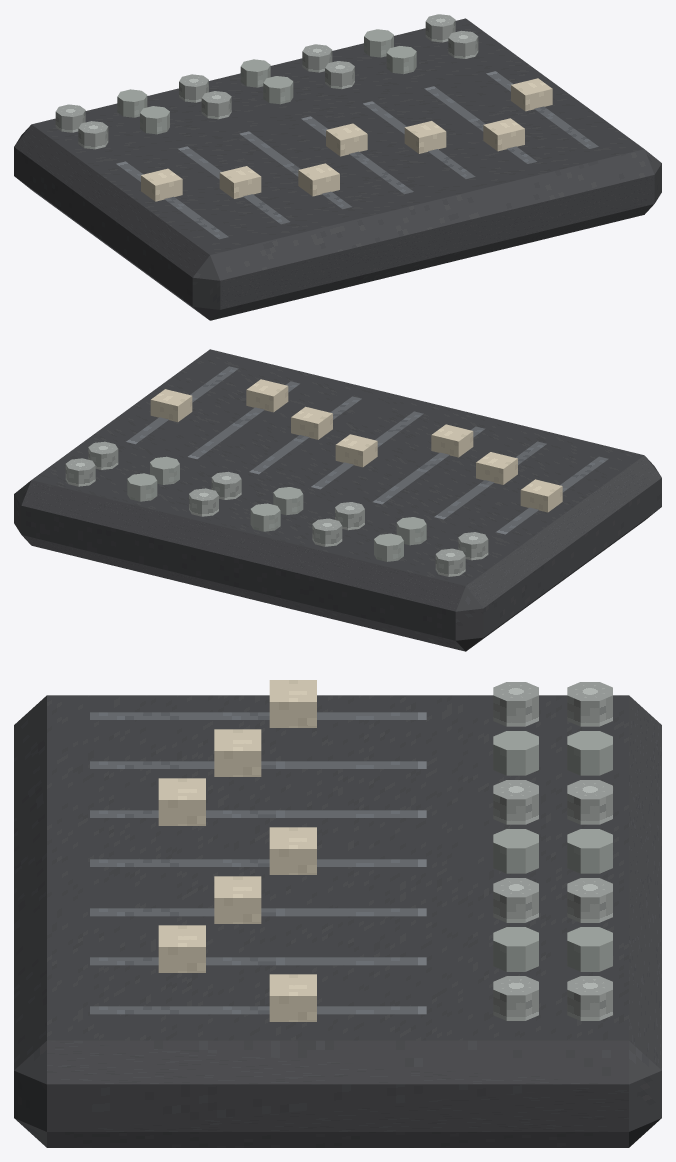
Rendered from mixer_music.glb.
3 renders of one model, top to bottom at view 1: azimuth 30°, elevation 25°; view 2: azimuth 150°, elevation 25°; view 3: azimuth 270°, elevation 25°, orthographic. The views are drawn at different scales.
Visible parts, largest first — view 1: block_mixing desk, block_channel trim knob (×14), block_slider cap (×7), block_slider channel (×7); view 2: block_mixing desk, block_channel trim knob (×14), block_slider cap (×7), block_slider channel (×7); view 3: block_mixing desk, block_channel trim knob (×14), block_slider channel (×7), block_slider cap (×7).
Boxes of the visible parts, bbox=[...] form: block_mixing desk: bbox=[14, 18, 661, 320]; block_channel trim knob (×14): bbox=[55, 14, 478, 149]; block_slider cap (×7): bbox=[141, 78, 552, 201]; block_slider channel (×7): bbox=[116, 71, 598, 239]; block_mixing desk: bbox=[14, 349, 661, 651]; block_channel trim knob (×14): bbox=[65, 441, 488, 576]; block_slider cap (×7): bbox=[150, 379, 562, 512]; block_slider channel (×7): bbox=[126, 366, 608, 534]; block_mixing desk: bbox=[14, 695, 661, 1147]; block_channel trim knob (×14): bbox=[493, 682, 612, 1020]; block_slider channel (×7): bbox=[90, 712, 426, 1014]; block_slider cap (×7): bbox=[158, 680, 316, 1021].
Bounding box in the file's own units: 0.38 × 0.0632 × 0.2788.
Materials: 1 (1 with a texture image).
